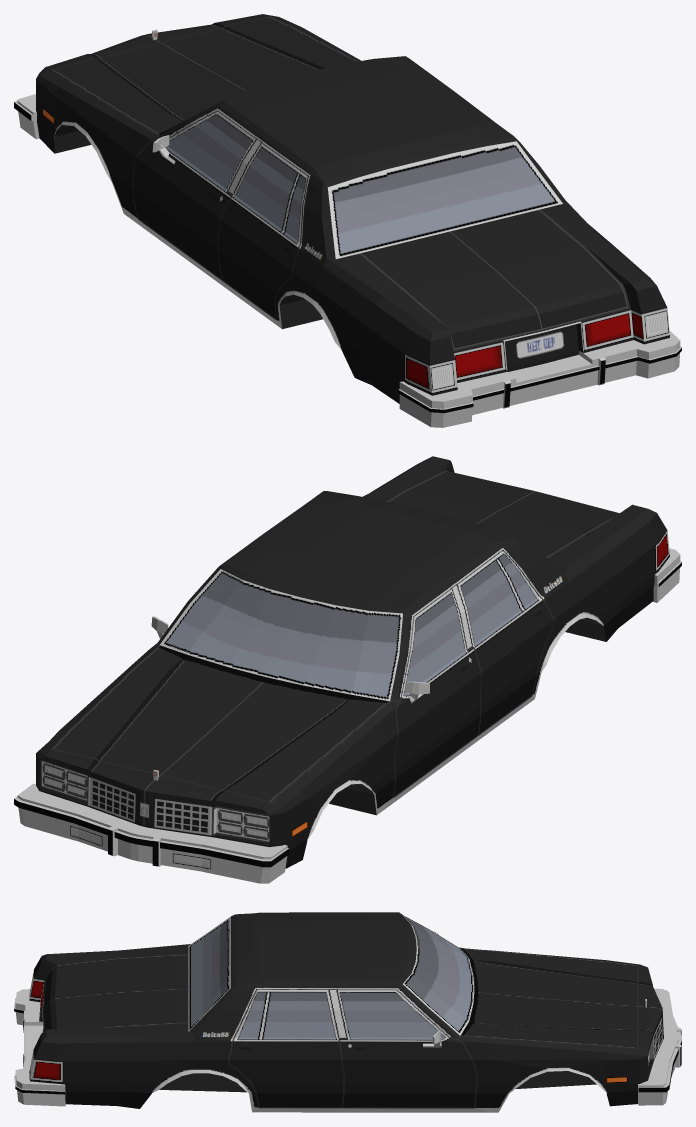
The model's file is 77delta88.fbx.
3 renders of one model, top to bottom at view 1: azimuth 30°, elevation 25°; view 2: azimuth 150°, elevation 25°; view 3: azimuth 270°, elevation 25°, orthographic. The views are drawn at different scales.
Visible parts, largest first — view 1: 77delta88; view 2: 77delta88; view 3: 77delta88.
Part boxes in pixels (<box>): 77delta88: <box>14,14,681,427</box>; 77delta88: <box>14,456,681,883</box>; 77delta88: <box>14,912,681,1112</box>.
Bounding box in the file's own units: 2.1 × 1.12 × 5.59.
